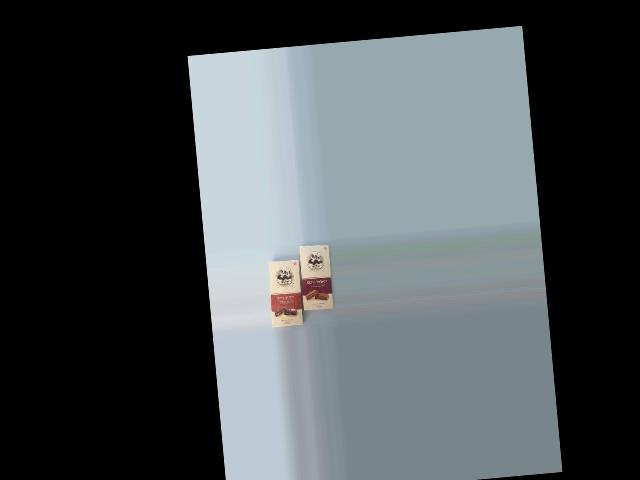chocolate: (265, 255, 311, 329)
